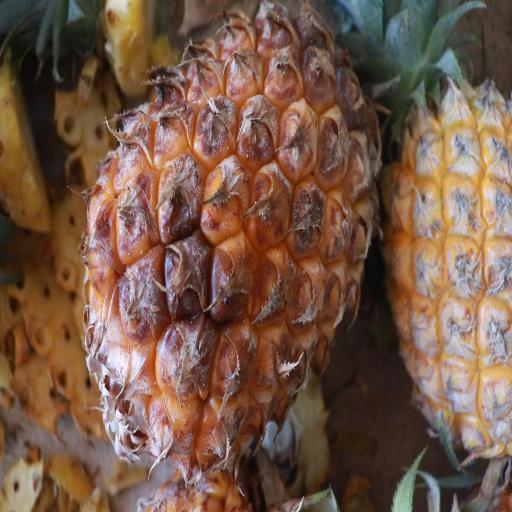Pineapple - v8 v1: (82, 3, 377, 475), (379, 2, 512, 480)
